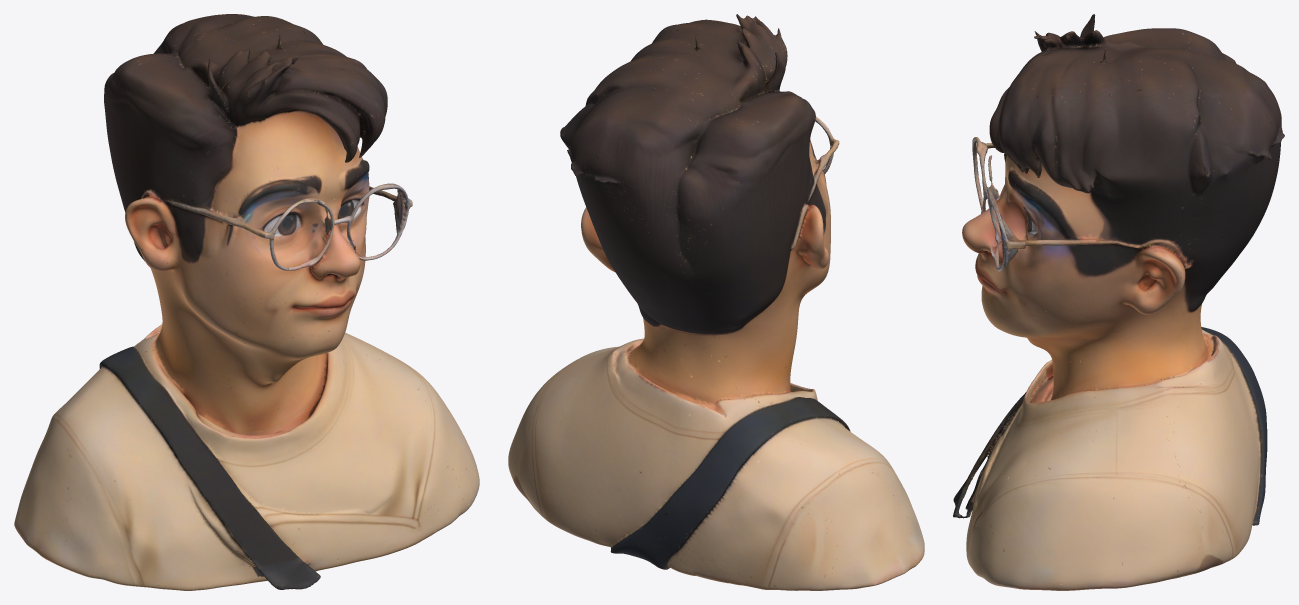
The model's file is avatar.glb.
3 views of the same model, side by side, from view 1: azimuth 30°, elevation 25°; view 2: azimuth 150°, elevation 25°; view 3: azimuth 270°, elevation 25° (orthographic).
Size of the model in its own units: 1.73 by 2 by 1.22.
Materials: 1 (1 with a texture image).
